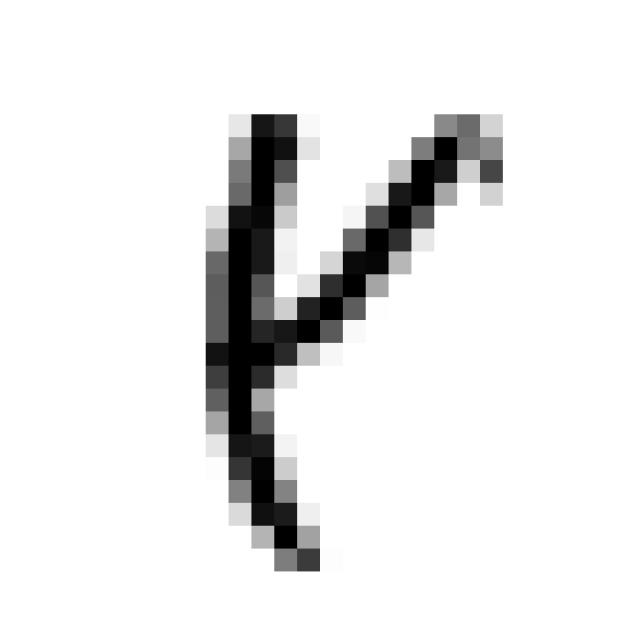3 -three-: (174, 91, 518, 584)
